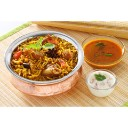briyani: (16, 38, 74, 74)
